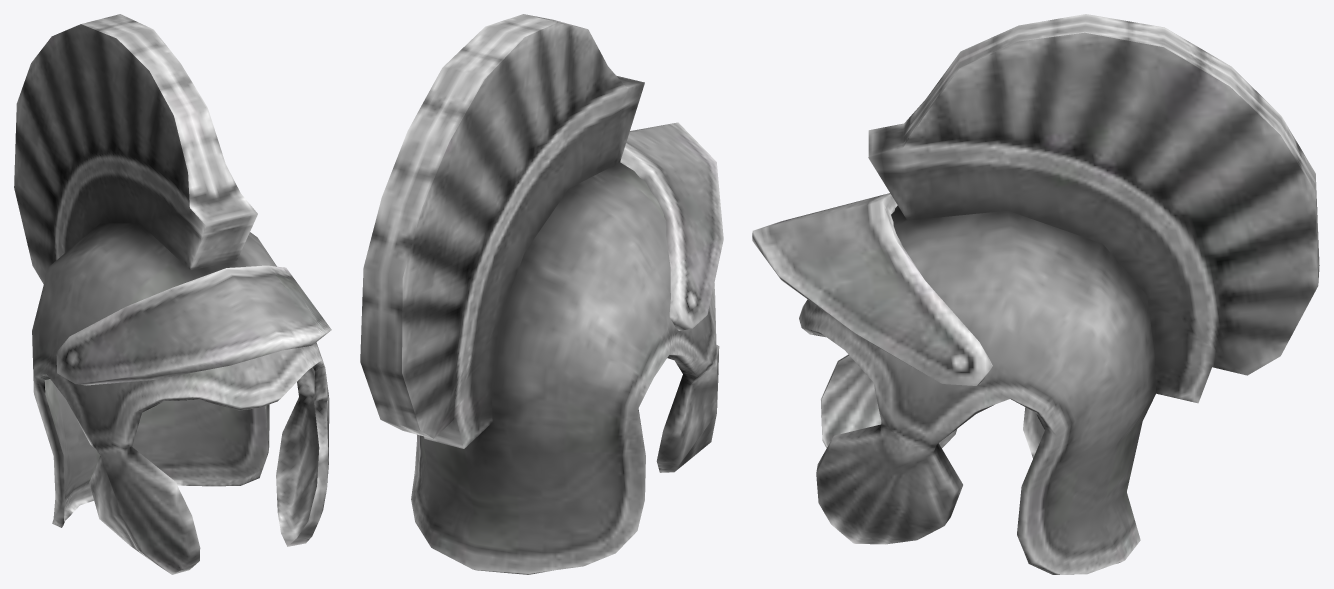
Rendered from helmet-championinfantry.glb.
3 views of the same model, side by side, from view 1: azimuth 30°, elevation 25°; view 2: azimuth 150°, elevation 25°; view 3: azimuth 270°, elevation 25° (orthographic). The views are drawn at different scales.
Size of the model in its own units: 0.2731 by 0.4999 by 0.4956.
Materials: 1 (1 with a texture image).
